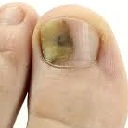Nail Fungal Infection: (37, 20, 77, 60)
